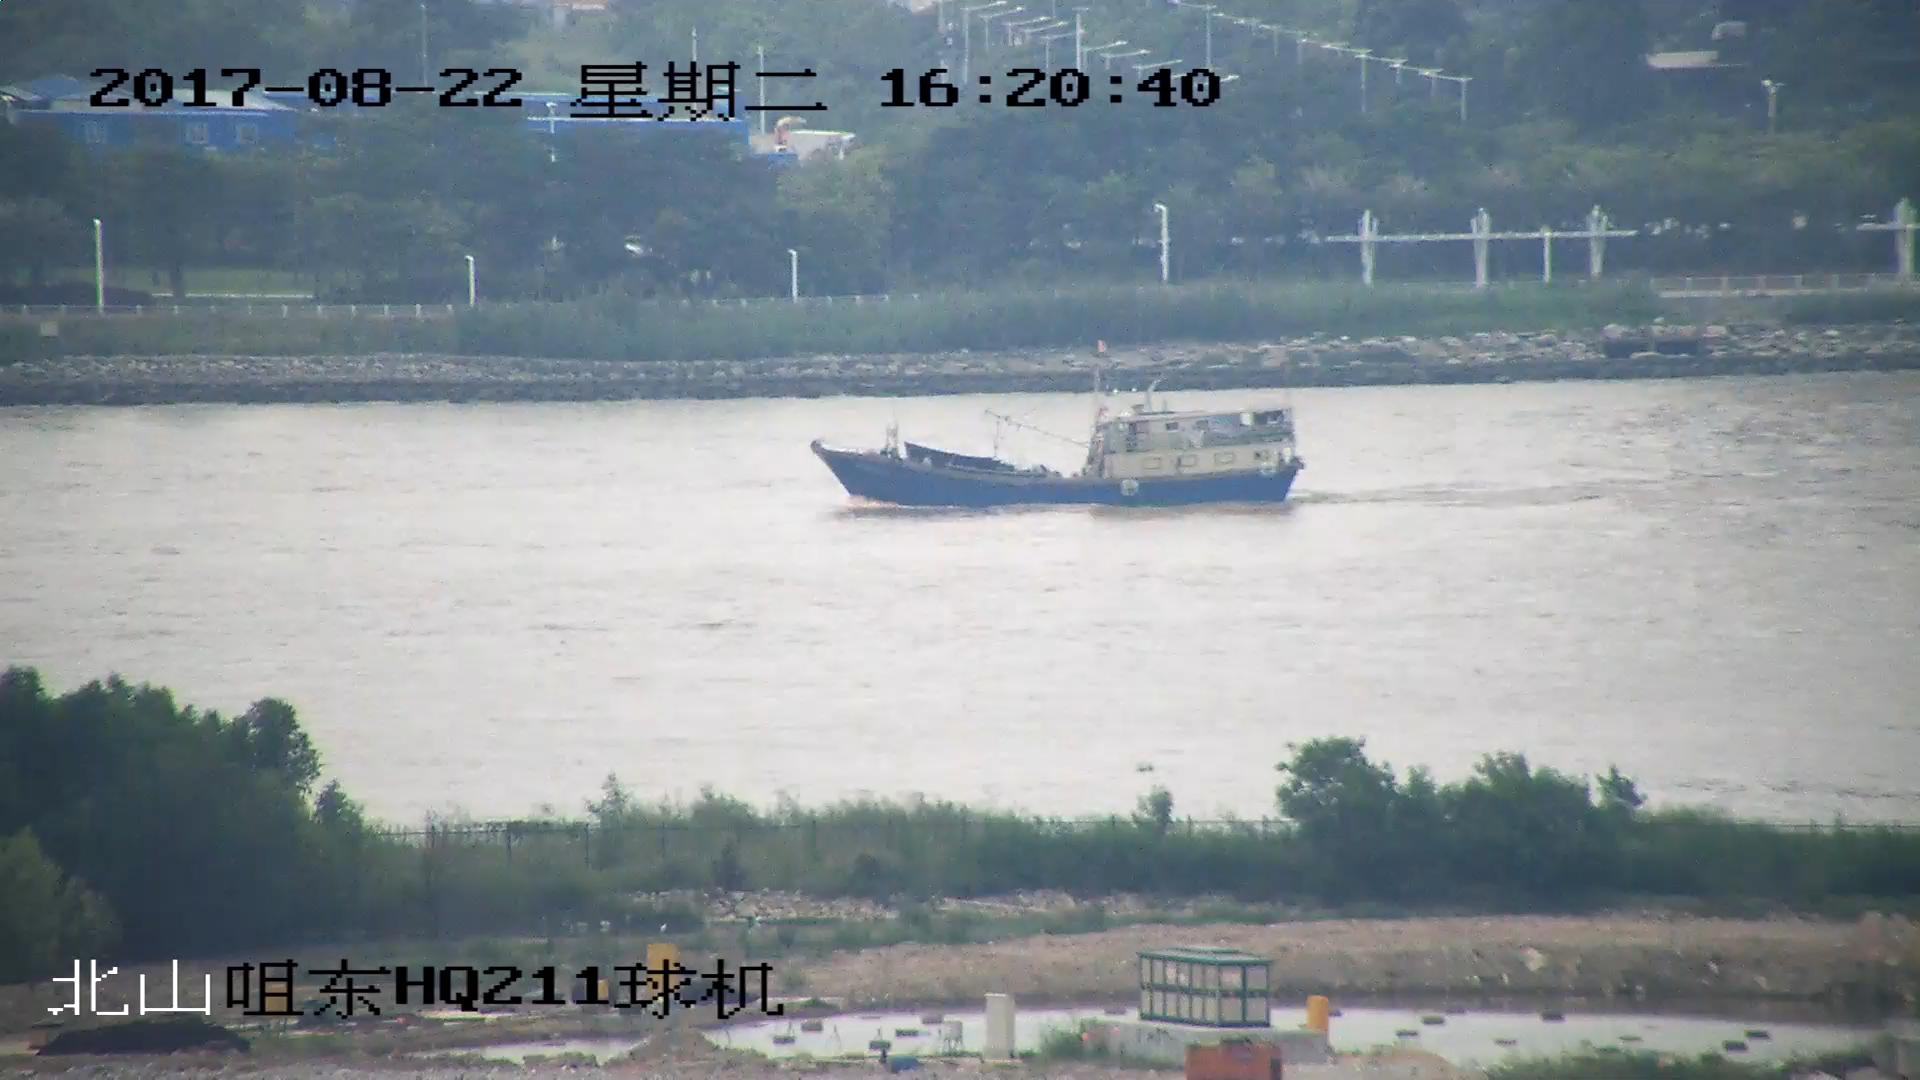fishing boat: (818, 346, 1302, 515)
